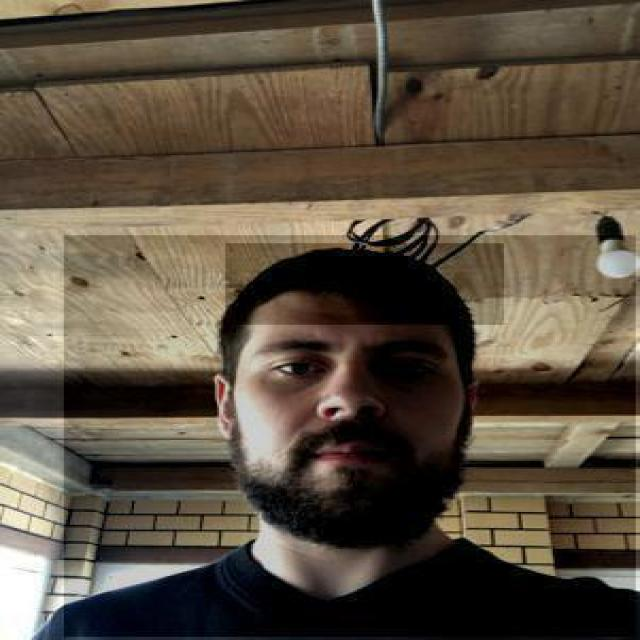face_nomask: (243, 322, 462, 544)
head_nohelmet: (225, 243, 504, 325)
person: (64, 236, 638, 638)
